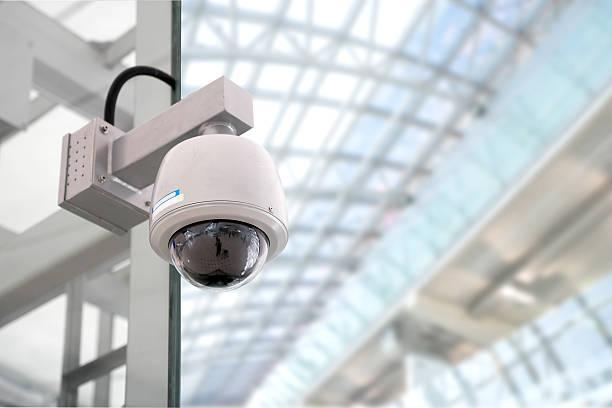camera: (125, 100, 296, 320)
